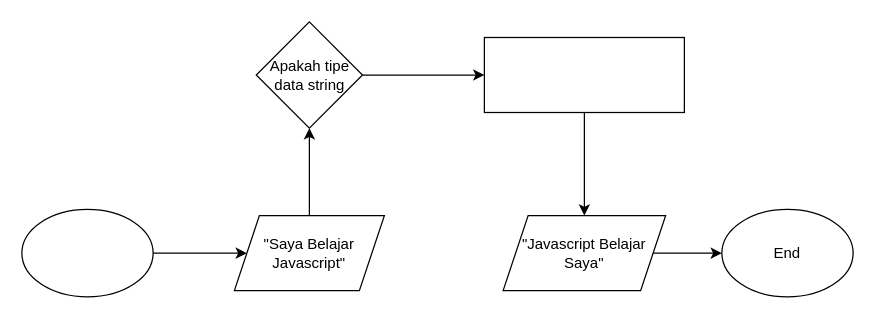
Some shapes in this 875 by 319 pixel diagram are drawn without their labels. Each missing label, with the centre of its shape:
Balikkan kalimat dengan text.spit(" ").reverse().join(" "): point (583, 74)
Start: point (87, 252)
